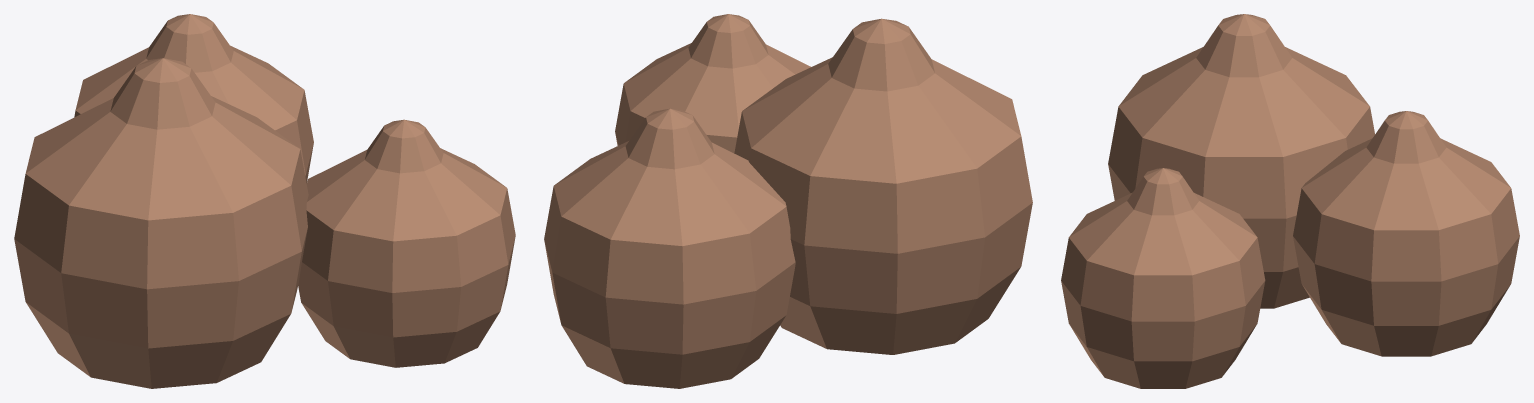
The model's file is water_jars.glb.
The picture shows the model from 3 angles, left to right: view 1: azimuth 30°, elevation 25°; view 2: azimuth 150°, elevation 25°; view 3: azimuth 270°, elevation 25°; orthographic projection. The views are drawn at different scales.
Parts seen in each view (by area): view 1: water_jar_1, water_jar_2, water_jar_3; view 2: water_jar_1, water_jar_3, water_jar_2; view 3: water_jar_3, water_jar_1, water_jar_2.
Part boxes in pixels (x1,y1,x2,y2): water_jar_1: [14, 58, 308, 388]; water_jar_2: [298, 119, 515, 367]; water_jar_3: [74, 14, 313, 183]; water_jar_1: [734, 18, 1032, 354]; water_jar_3: [544, 108, 795, 388]; water_jar_2: [615, 14, 810, 153]; water_jar_3: [1293, 111, 1519, 356]; water_jar_1: [1108, 14, 1374, 308]; water_jar_2: [1061, 168, 1265, 388].
Bounding box in the file's own units: 1.06 × 0.744 × 1.13.
